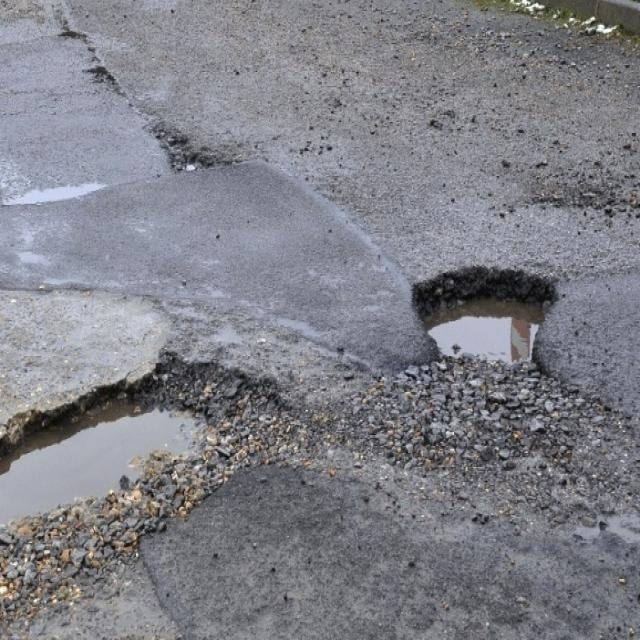road-pothole: (0, 358, 313, 638), (411, 260, 562, 381)
